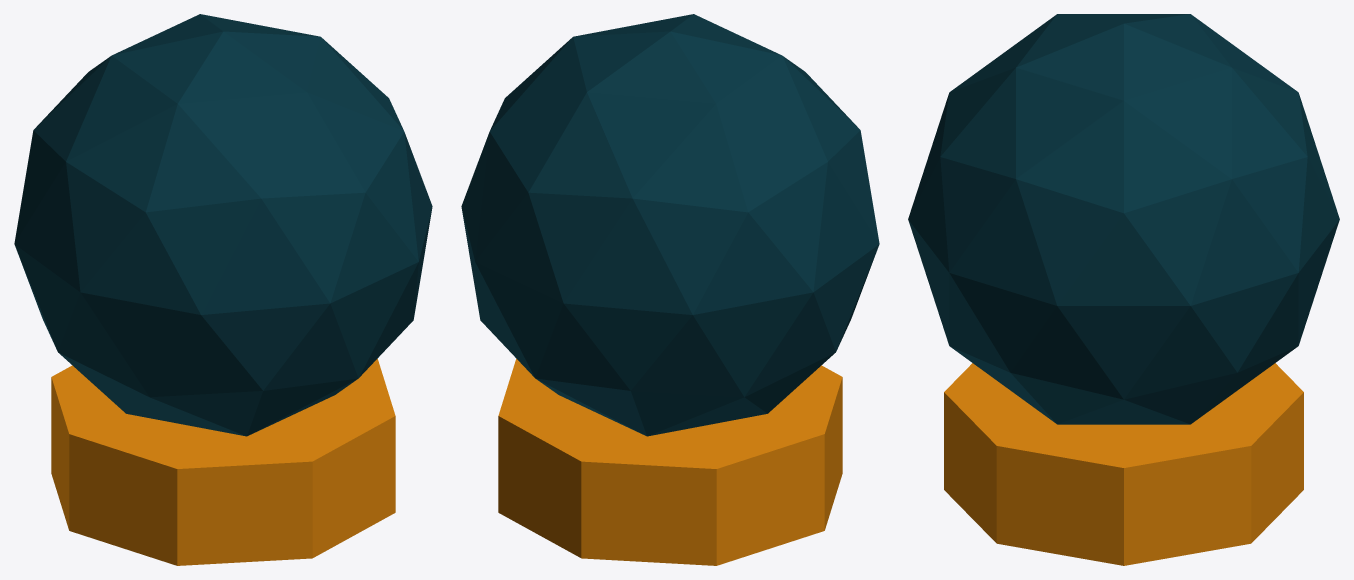
Rendered from crystal_ball.obj.
The picture shows the model from 3 angles, left to right: view 1: azimuth 30°, elevation 25°; view 2: azimuth 150°, elevation 25°; view 3: azimuth 270°, elevation 25°; orthographic projection.
Parts seen in each view (by area): view 1: crystal_ball; view 2: crystal_ball; view 3: crystal_ball.
Boxes of the visible parts, x1=… form: crystal_ball: x1=14, y1=14, x2=432, y2=565; crystal_ball: x1=461, y1=14, x2=879, y2=565; crystal_ball: x1=908, y1=14, x2=1339, y2=565.
Bounding box in the file's own units: 0.5706 × 0.715 × 0.6.
